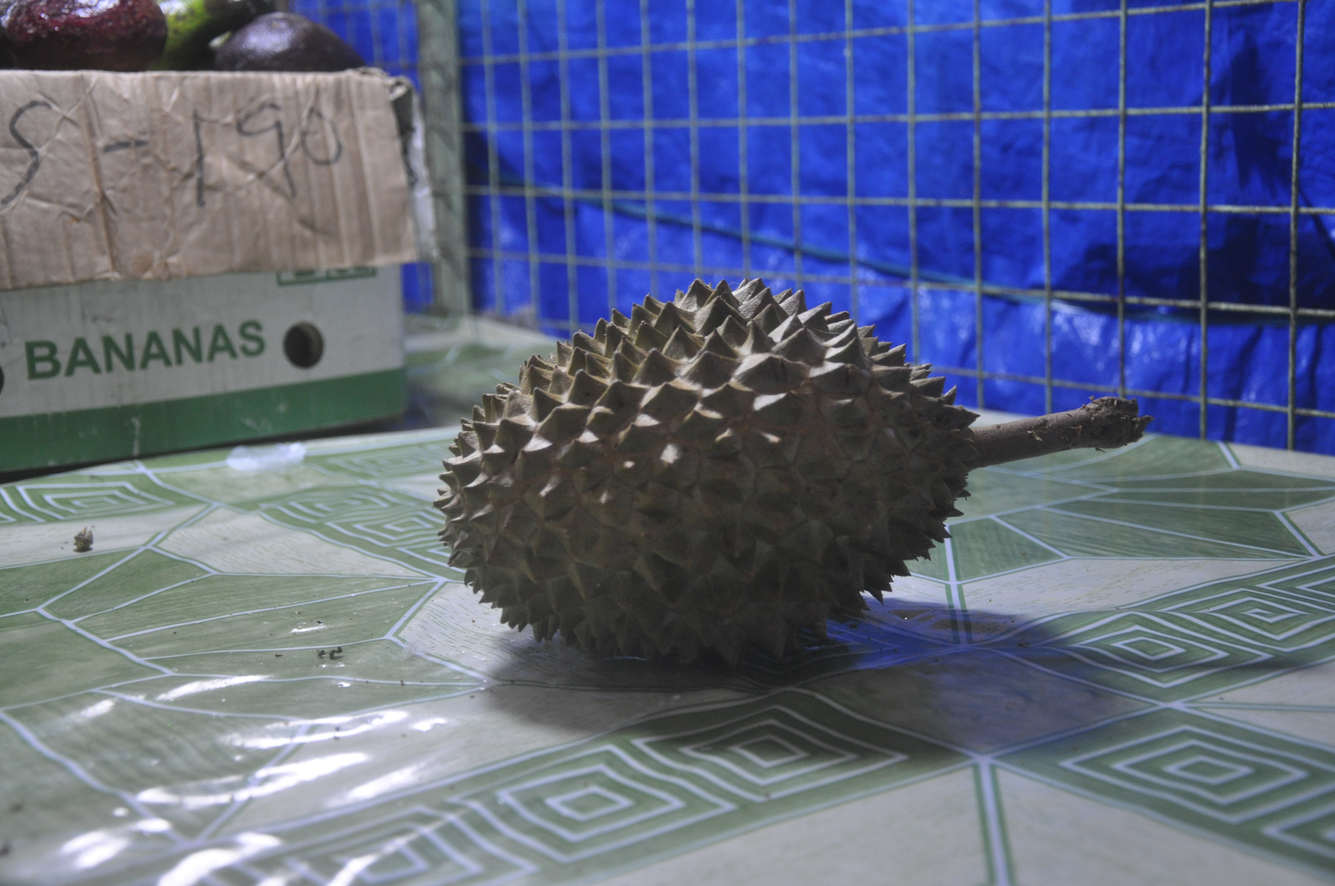mature: (435, 279, 1149, 669)
